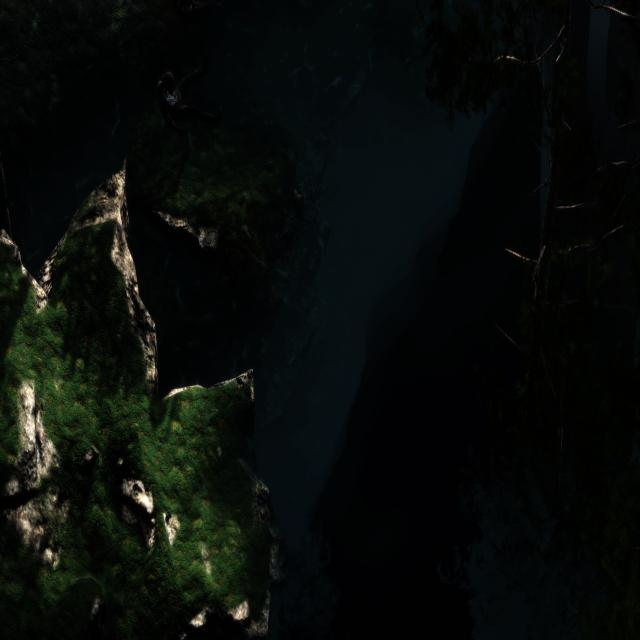Human: (150, 43, 226, 134)
